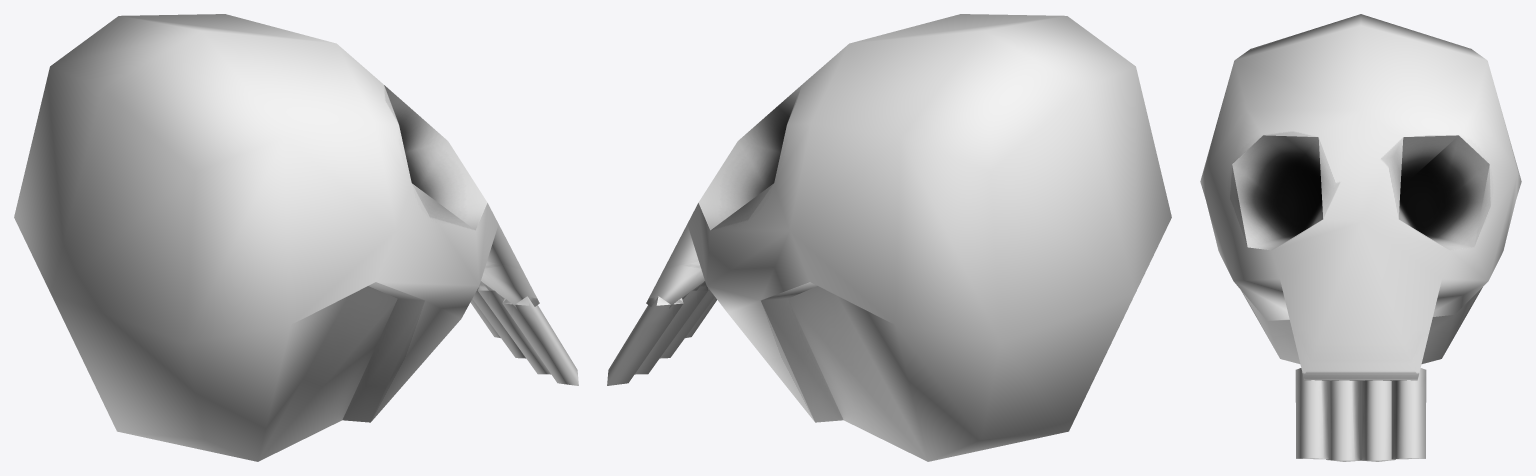
The model's file is skeletonHead.fbx.
3 renders of one model, left to right at view 1: azimuth 30°, elevation 25°; view 2: azimuth 150°, elevation 25°; view 3: azimuth 270°, elevation 25°, orthographic. The views are drawn at different scales.
Parts seen in each view (by area): view 1: skeletonHead_geo; view 2: skeletonHead_geo; view 3: skeletonHead_geo.
Part boxes in pixels (box(x1,y1,x2,y2)): skeletonHead_geo: box(14, 14, 578, 461); skeletonHead_geo: box(607, 14, 1171, 461); skeletonHead_geo: box(1200, 14, 1521, 461).
Size of the model in its own units: 62.35 by 49.88 by 46.04.
